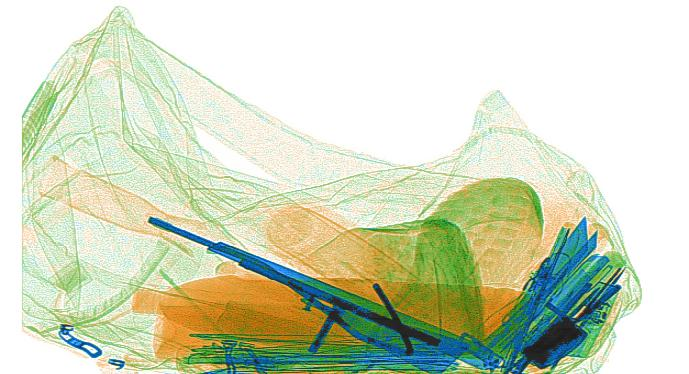knife: (506, 250, 609, 353)
